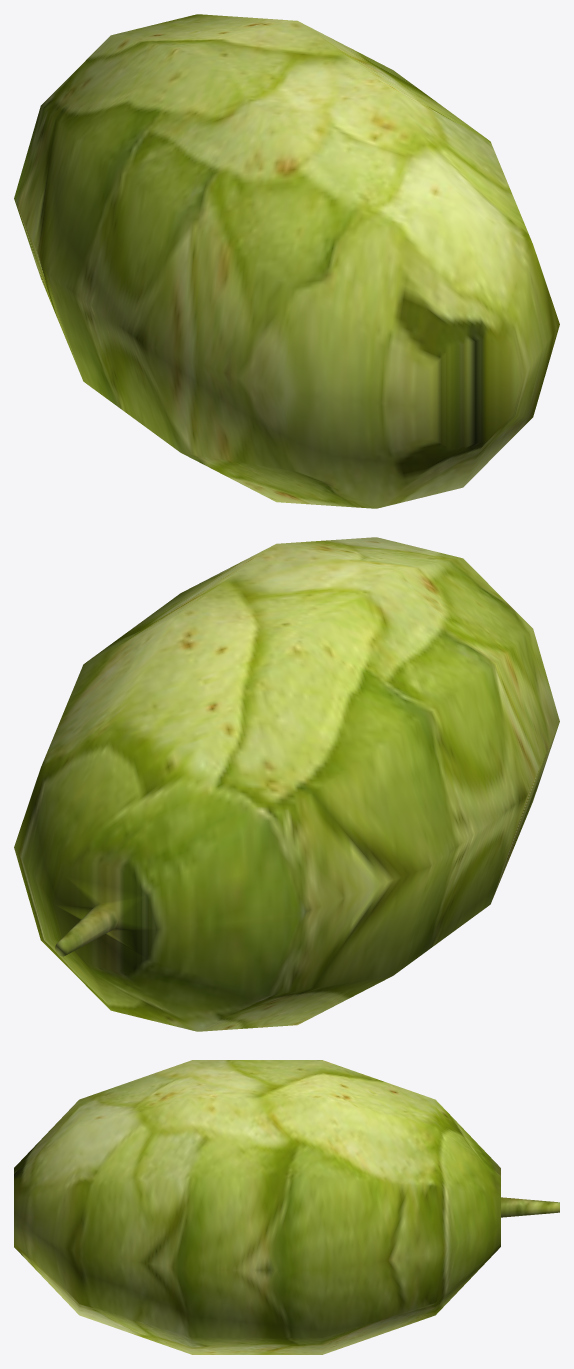
The model's file is Hops.fbx.
3 renders of one model, top to bottom at view 1: azimuth 30°, elevation 25°; view 2: azimuth 150°, elevation 25°; view 3: azimuth 270°, elevation 25°, orthographic. The views are drawn at different scales.
Parts seen in each view (by area): view 1: Group1; view 2: Group1; view 3: Group1.
Boxes of the visible parts, x1,y1,x2,y2 form: Group1: (14,14,559,508); Group1: (14,537,559,1031); Group1: (14,1060,559,1354).
Bounding box in the file's own units: 10.68 × 10.15 × 19.62.
